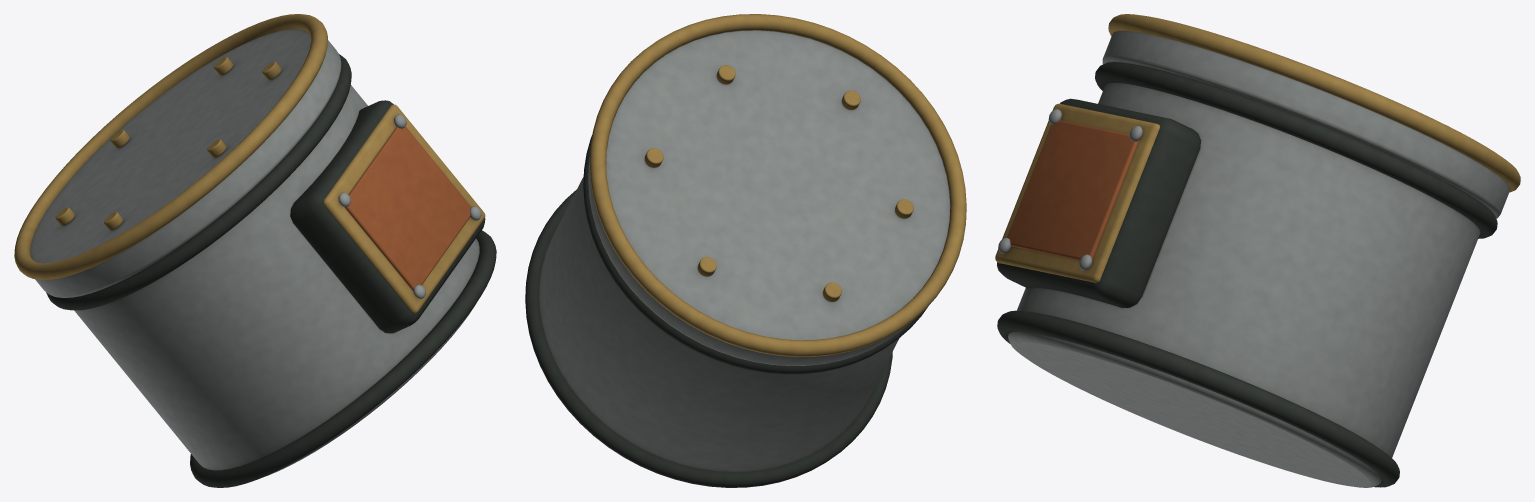
3 renders of one model, left to right at view 1: azimuth 30°, elevation 25°; view 2: azimuth 150°, elevation 25°; view 3: azimuth 270°, elevation 25°, orthographic. The views are drawn at different scales.
Visible parts, largest first — view 1: Closed sample vessel; view 2: Closed sample vessel; view 3: Closed sample vessel.
Part boxes in pixels (x1,y1,x2,y2): Closed sample vessel: (14, 14, 496, 487); Closed sample vessel: (525, 14, 966, 487); Closed sample vessel: (995, 14, 1520, 487).
Bounding box in the file's own units: 1.12 × 1.1 × 1.09.
1 material, 1 textured.
